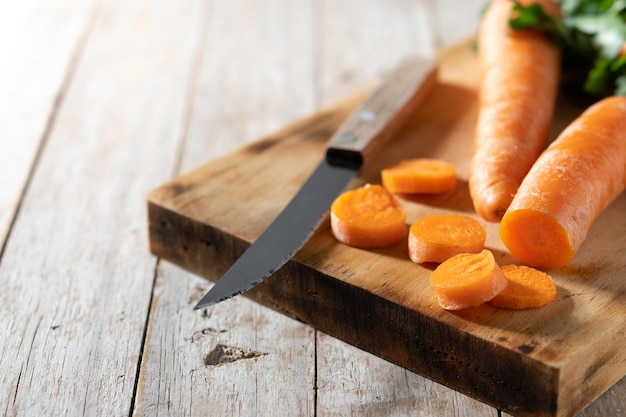knife: (193, 50, 439, 310)
